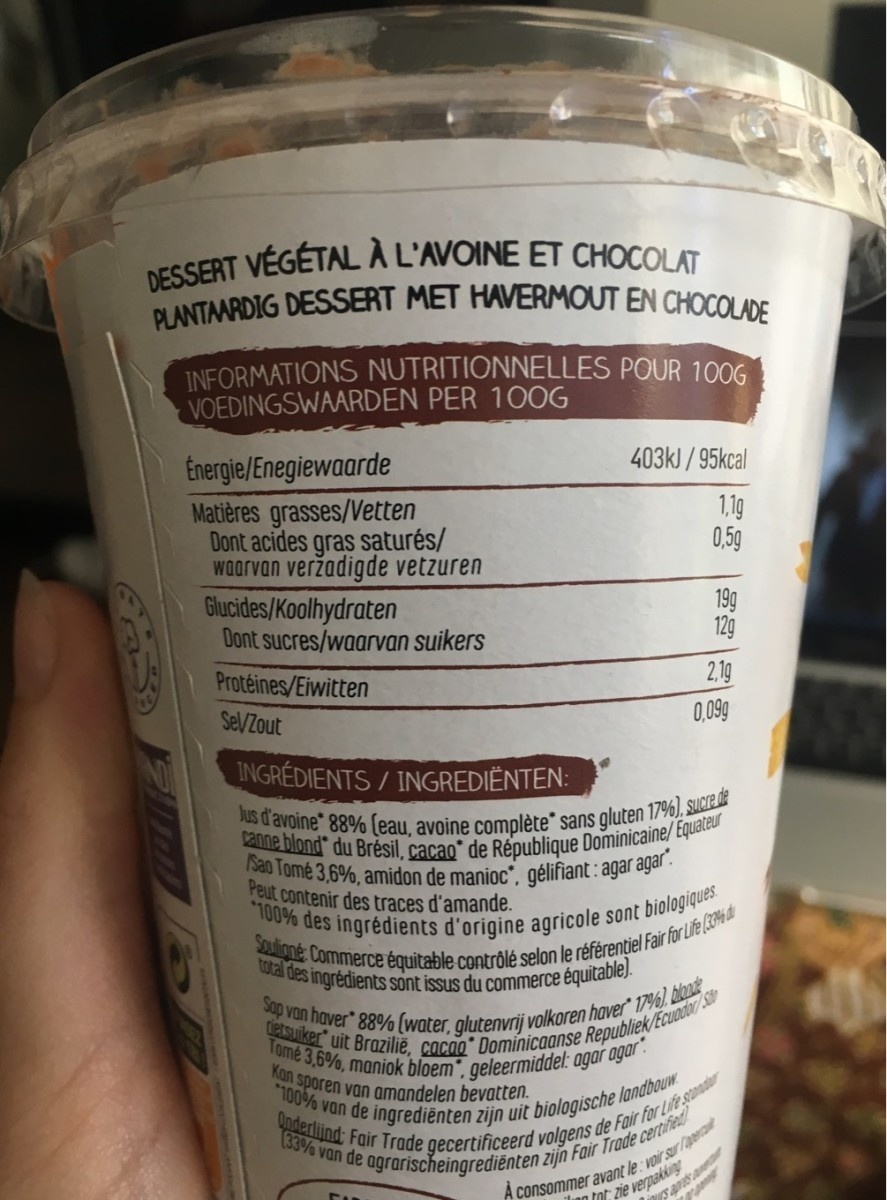column: (187, 454, 485, 736), (626, 446, 746, 723)
table: (180, 444, 751, 735)
